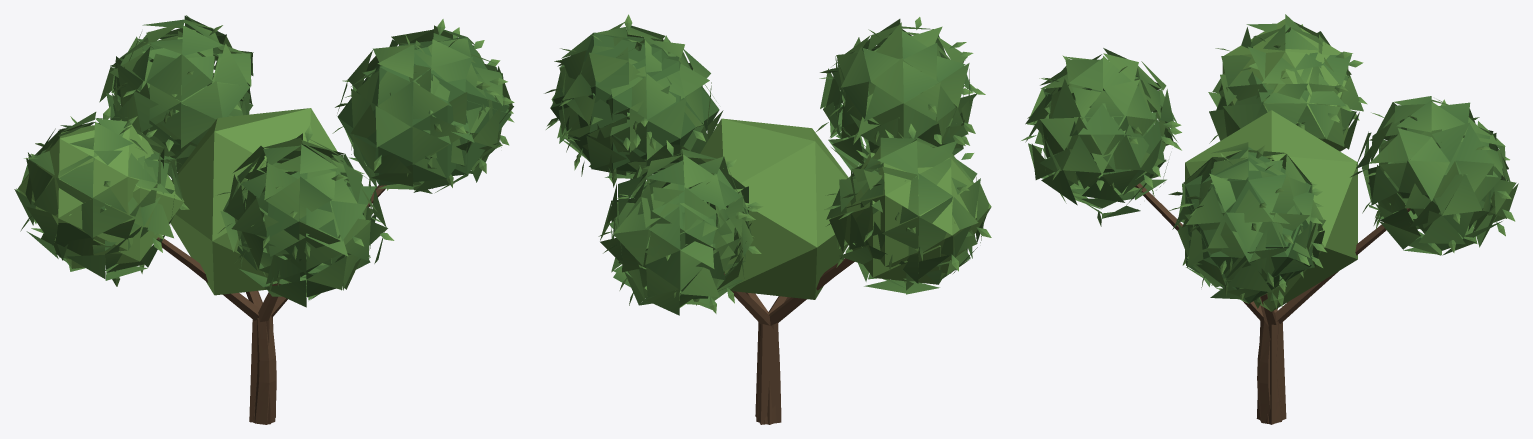
File: almond.glb
3 renders of one model, left to right at view 1: azimuth 30°, elevation 25°; view 2: azimuth 150°, elevation 25°; view 3: azimuth 270°, elevation 25°, orthographic. The views are drawn at different scales.
Visible parts, largest first — view 1: leaves (×3), trunk; view 2: leaves (×3), trunk; view 3: leaves (×3), trunk.
Boxes of the visible parts, x1,y1,x2,y2 form: leaves (×3): (14, 15, 514, 424); trunk: (156, 142, 387, 424); leaves (×3): (544, 14, 991, 424); trunk: (724, 258, 854, 423); leaves (×3): (1021, 14, 1518, 424); trunk: (1135, 183, 1410, 423).
Size of the model in its own units: 1.36 by 1 by 1.32.
